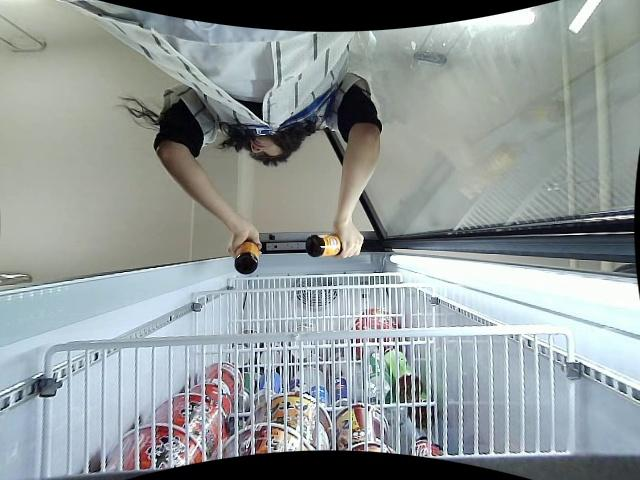00_hand: (331, 223, 364, 259), (228, 222, 261, 253)
17_vita500: (305, 233, 345, 259), (235, 239, 259, 275)
